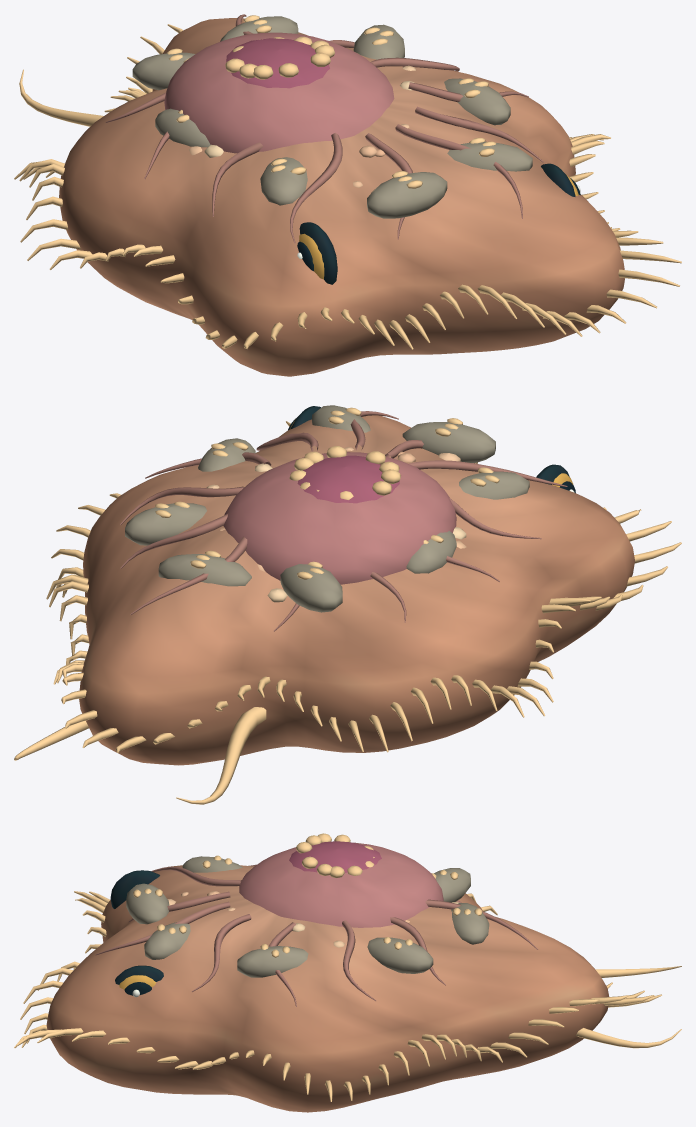
The model's file is amoeba.glb.
3 views of the same model, one above another, from view 1: azimuth 30°, elevation 25°; view 2: azimuth 150°, elevation 25°; view 3: azimuth 270°, elevation 25° (orthographic). The views are drawn at different scales.
Visible parts, largest first — view 1: membrane, body, cilia, tail; view 2: membrane, body, cilia, tail; view 3: membrane, body, cilia, tail.
Part boxes in pixels (x1,y1,x2,y2): membrane: (59,14,624,376); body: (132,15,580,284); cilia: (14,24,681,349); tail: (19,69,103,126); membrane: (79,411,634,765); body: (125,405,575,612); cilia: (46,421,681,752); tail: (14,707,266,804); membrane: (46,864,609,1112); body: (110,833,489,997); cilia: (14,891,661,1101); tail: (576,966,681,1048).
Size of the model in its own units: 2.09 by 0.9774 by 2.79.
